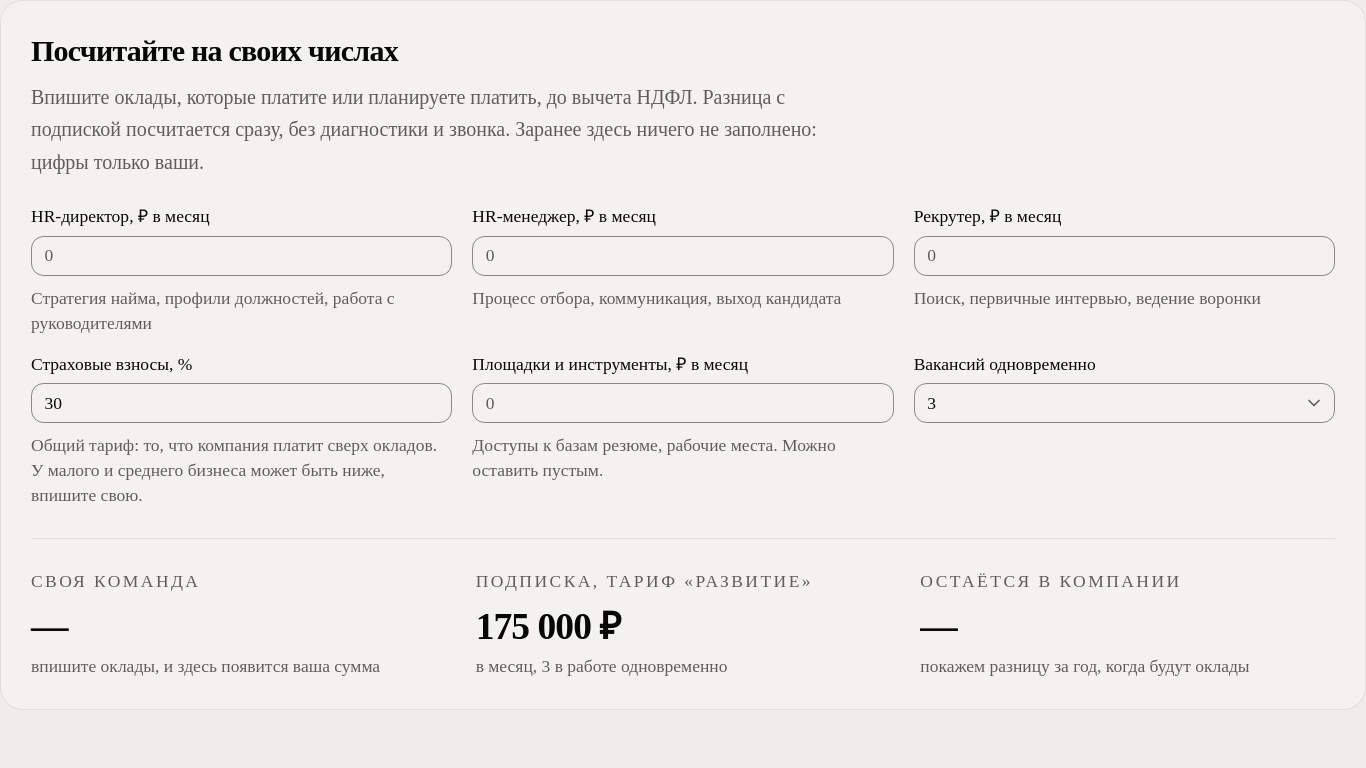
Test: CostCalculator › на маленьких окладах честно говорит, что своя команда дешевле
Type "100000" into the number field labelled "Рекрутер, ₽ в месяц" at (1124, 256), box [914,236,1335,276]
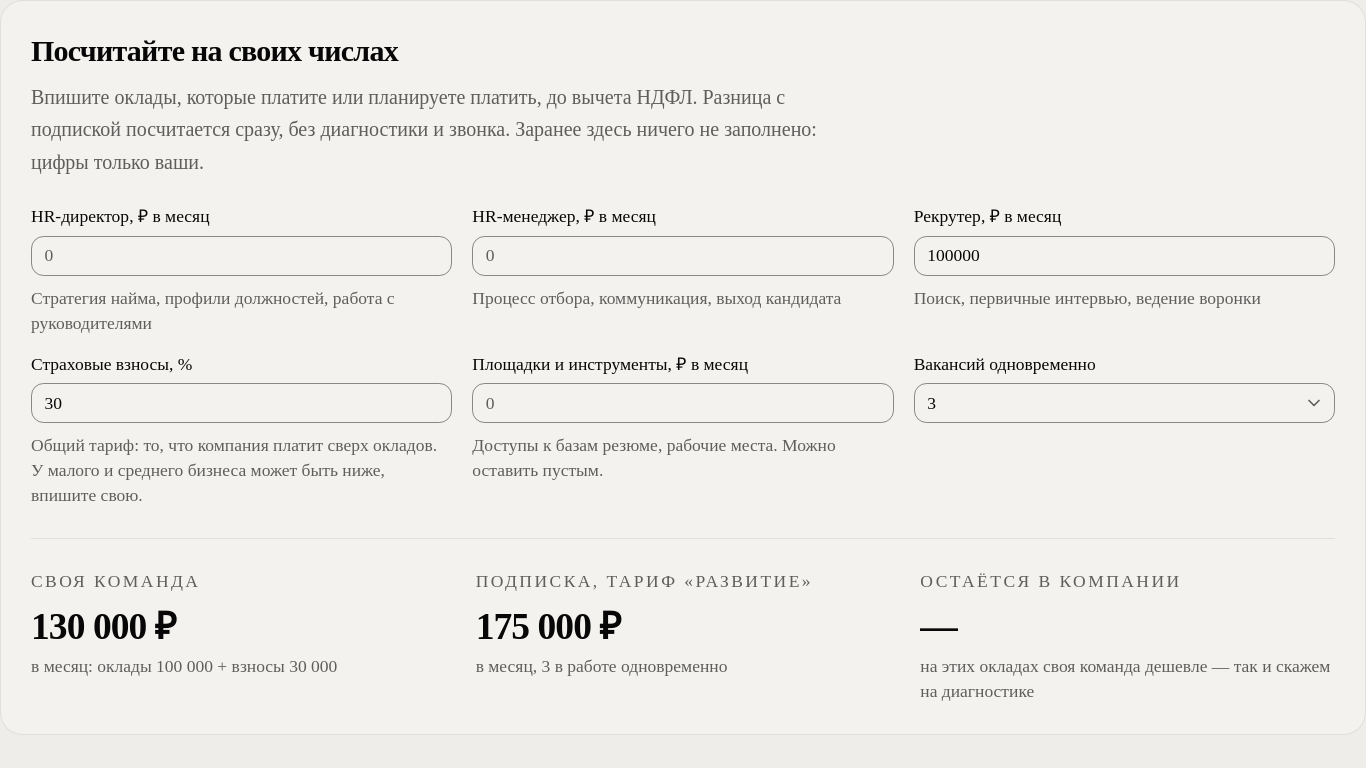
expect the element that starts with "Своя команда" does not show "подписка дешевле на": met, box [31,538,1335,704]
expect the element that starts with "Своя команда" shows "130 000 ₽": met, box [31,606,176,648]
expect the element that starts with "Своя команда" shows "своя команда дешевле": met, box [920,656,1330,702]
